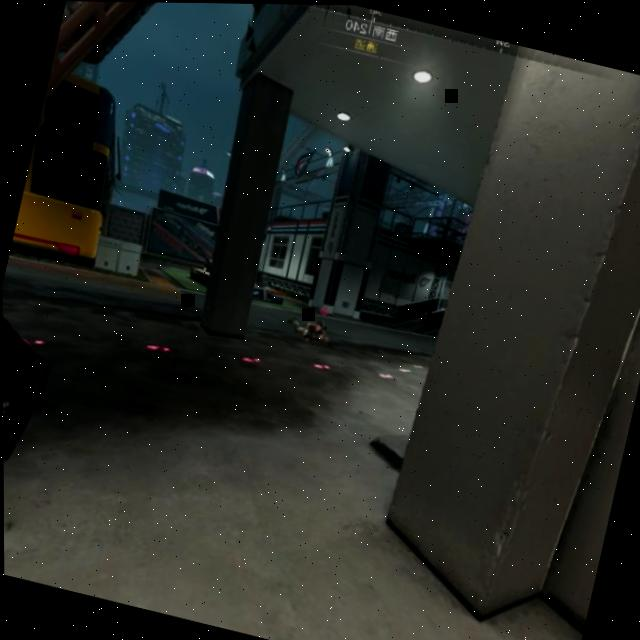MW2_body: (285, 298, 336, 343)
